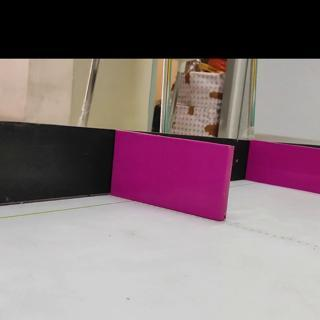xparking: (119, 143, 227, 213), (256, 149, 320, 193)
